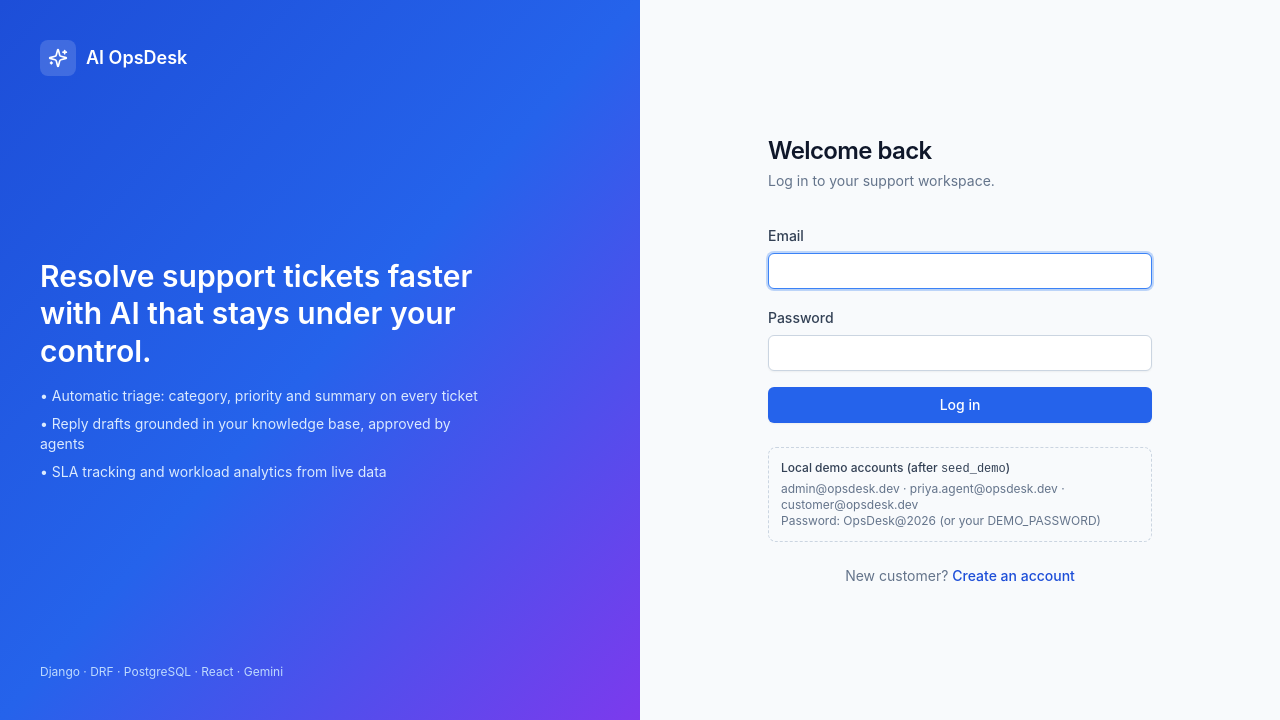
Test case: LoginPage › shows the server's error message on failure
Type "agent@example.com" into the field labelled "Email" at {"x": 960, "y": 270}, box top-left (768, 252), bottom-right (1152, 288)
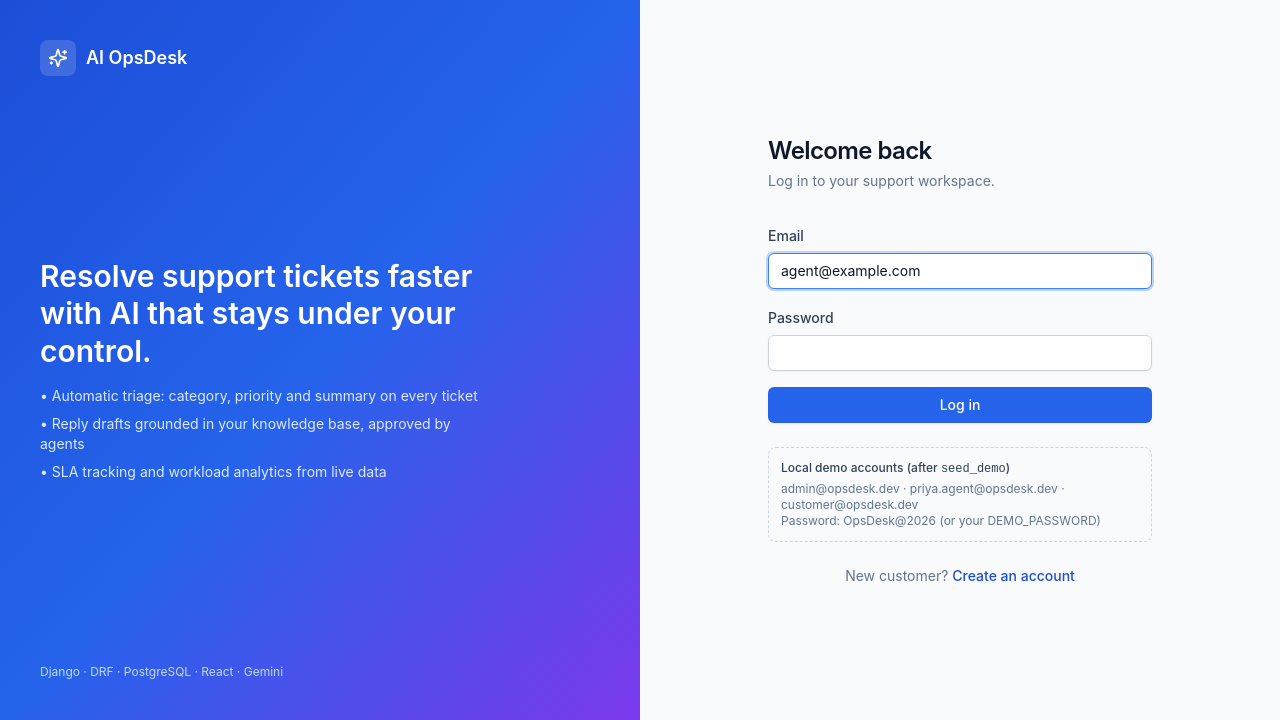
Type "wrong" into the password field labelled "Password" at {"x": 960, "y": 352}, box top-left (768, 334), bottom-right (1152, 370)
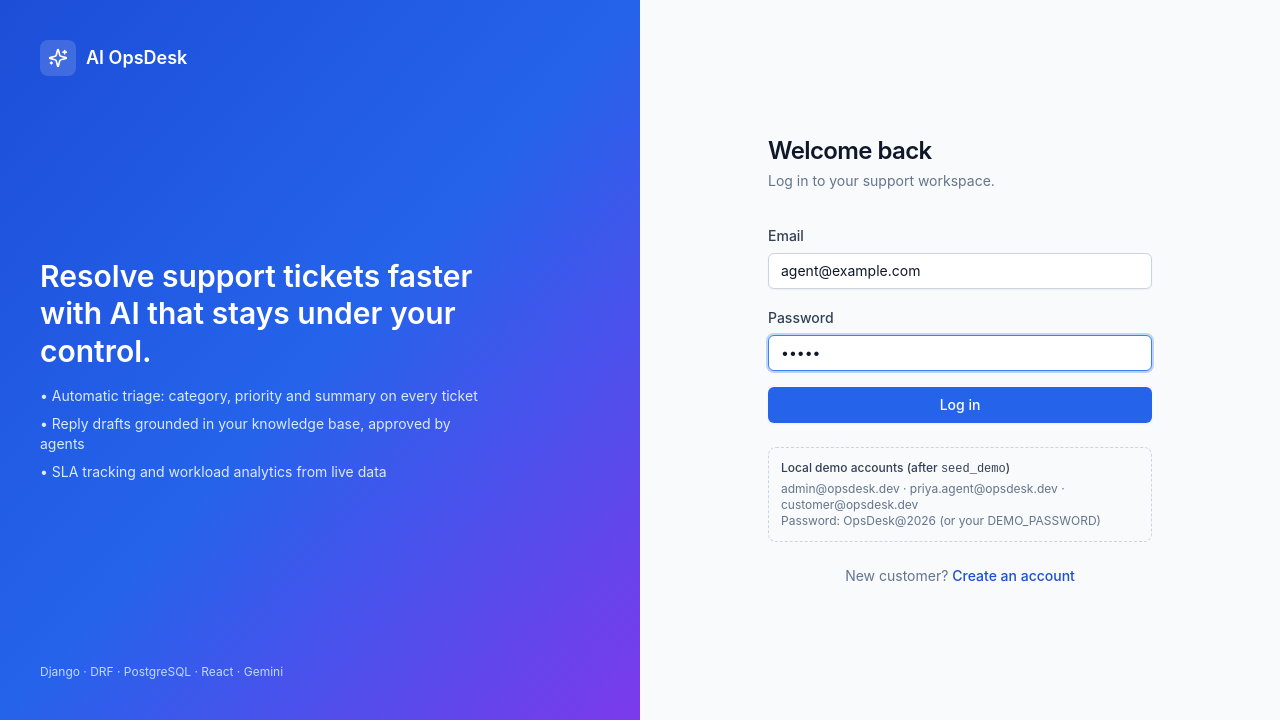
Click the button "Log in" at {"x": 960, "y": 404}, box top-left (768, 386), bottom-right (1152, 422)
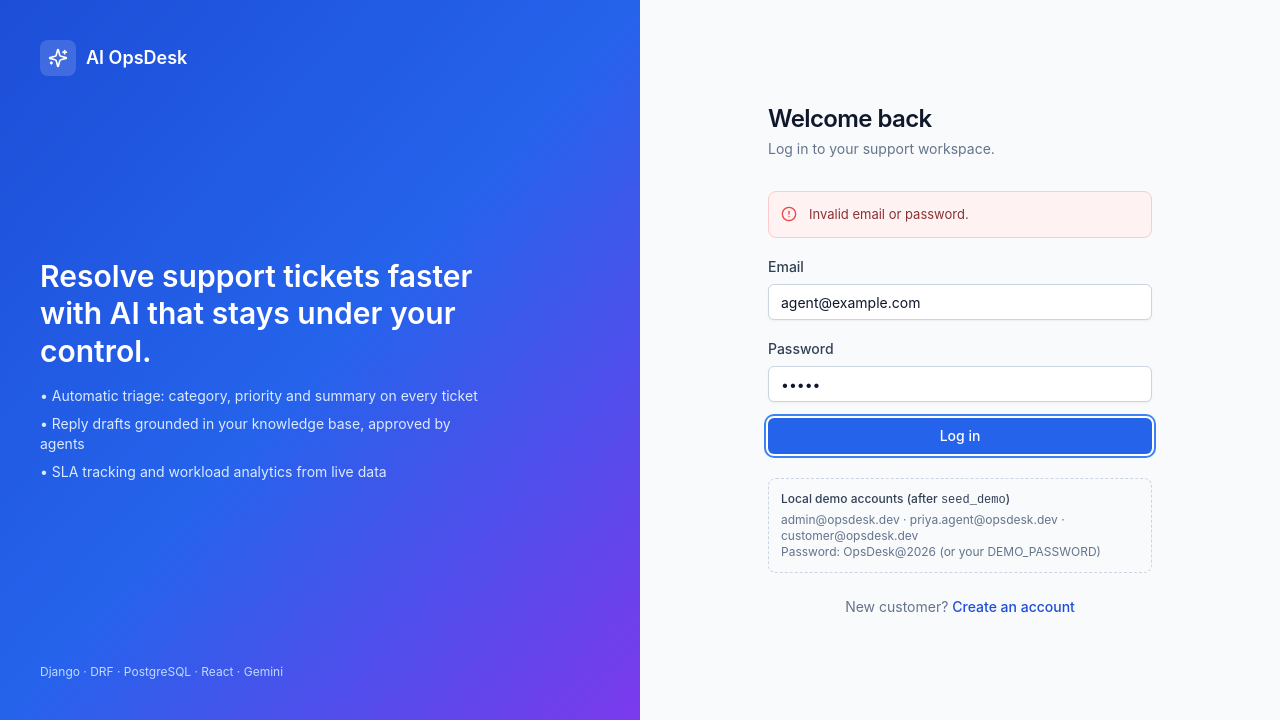
Expected: the text "Invalid email or password." is shown, top-left (809, 204), bottom-right (969, 225)
